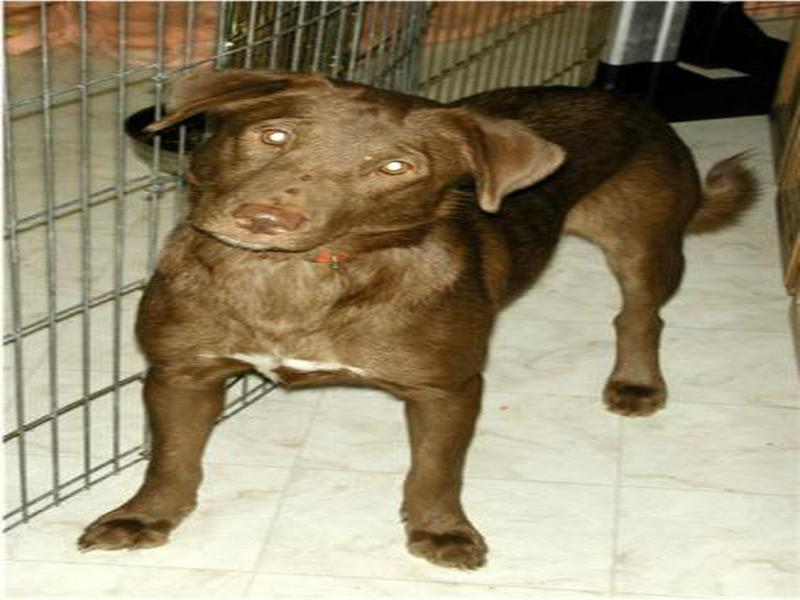dog: (70, 71, 779, 570)
